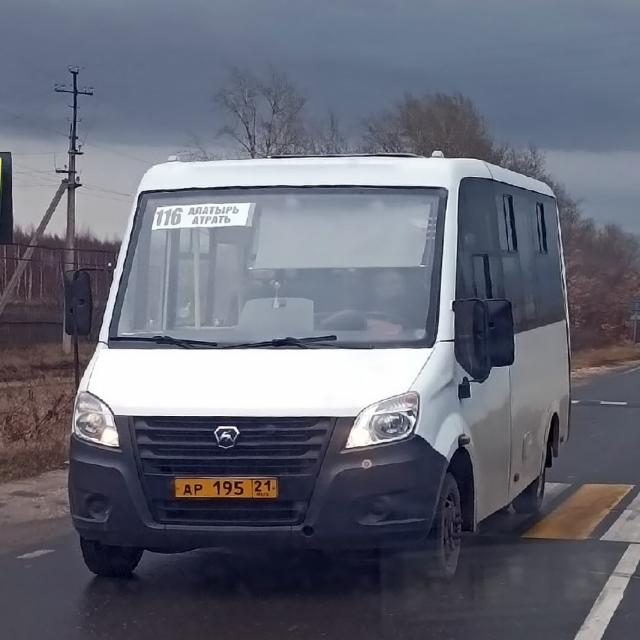number-of-bus: (153, 207, 188, 231)
